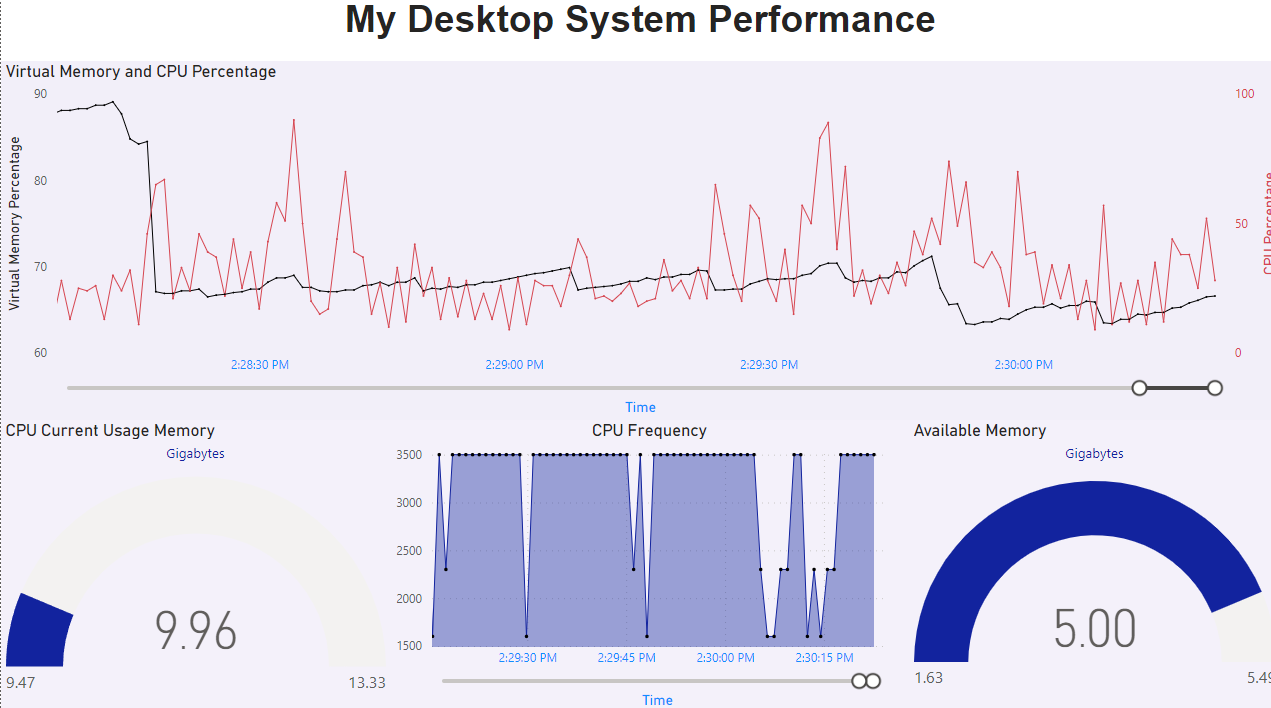

What the dashboard file says about the page in this screenshot:
{"tool":"powerbi","page":{"name":"Page 1","canvas":[1280,720],"ordinal":0},"visuals":[{"type":"gauge","title":"CPU Current Usage Memory ","fields":{"Y":["cpu_data_table.cpu_usage_current"],"MinValue":["Min(cpu_data_table.used_memory)"],"MaxValue":["Max(cpu_data_table.used_memory)1"]},"box":[0,427.3,390.2,292.9],"z":0},{"type":"gauge","title":"Available Memory","fields":{"Y":["cpu_data_table.available_mem_current"],"MinValue":["Min(cpu_data_table.available_memory)"],"MaxValue":["Max(cpu_data_table.available_memory)"]},"box":[908.3,427.3,371.7,292.9],"z":1000},{"type":"lineChart","title":"Virtual Memory and CPU Percentage","fields":{"Category":["cpu_data_table.Time"],"Y":["Sum(cpu_data_table.virtualMem_percent)"],"Y2":["Sum(cpu_data_table.cpu_percent)"]},"box":[0,67.7,1280,359.6],"z":2000},{"type":"areaChart","title":"CPU Frequency","fields":{"Y":["Sum(cpu_data_table.cpu_fre)"],"Category":["cpu_data_table.Time"]},"box":[390.2,427.3,518.1,292.9],"z":2001},{"type":"textbox","box":[0,0,1279.7,67.4],"z":2002}]}

Visuals, with their boxes in screenshot pixels (x1, y1, x2, y2), scaled from the page's 1280x720 canvas onto the 1271x708 screenshot:
"CPU Current Usage Memory " gauge: box=[0, 420, 387, 707]
"Available Memory" gauge: box=[902, 420, 1270, 707]
"Virtual Memory and CPU Percentage" lineChart: box=[0, 67, 1270, 420]
"CPU Frequency" areaChart: box=[387, 420, 902, 707]
textbox: box=[0, 0, 1270, 66]
